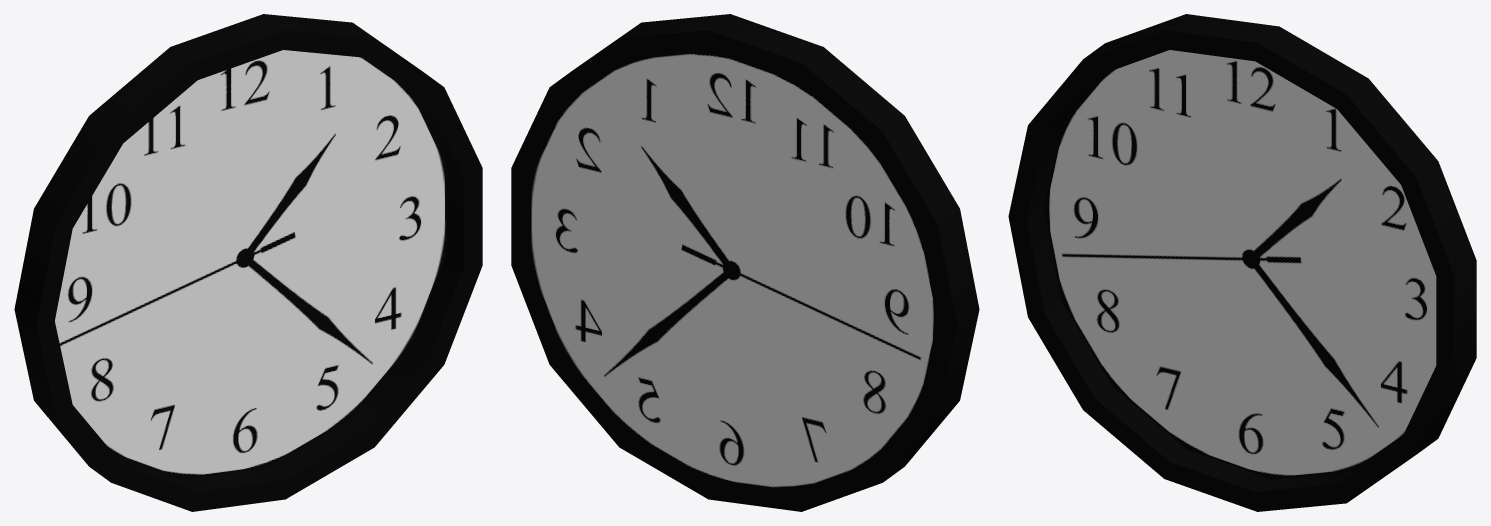
The model's file is clock.fbx.
3 renders of one model, left to right at view 1: azimuth 30°, elevation 25°; view 2: azimuth 150°, elevation 25°; view 3: azimuth 330°, elevation 25°, orthographic.
Parts seen in each view (by area): view 1: clock; view 2: clock; view 3: clock.
Boxes of the visible parts, x1,y1,x2,y2 form: clock: (14,14,482,511); clock: (511,14,979,511); clock: (1008,14,1476,511).
Bounding box in the file's own units: 48.99 × 49.26 × 4.19.
